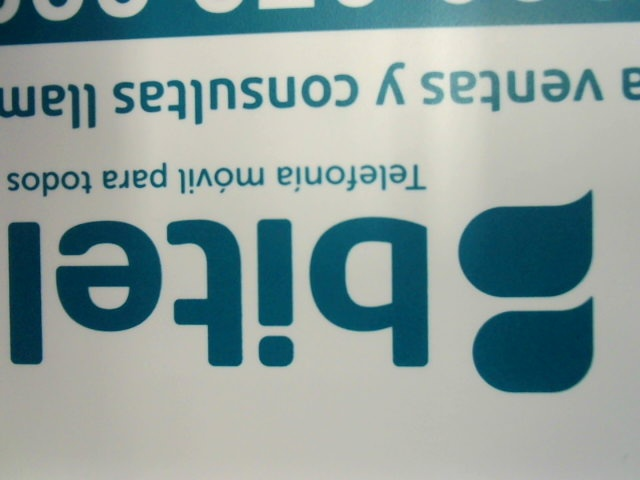BE_bitel: (1, 203, 608, 389)
